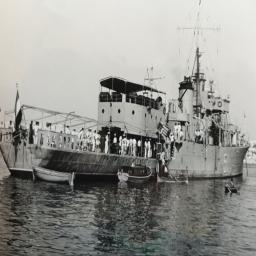Fragata: (2, 12, 253, 181)
